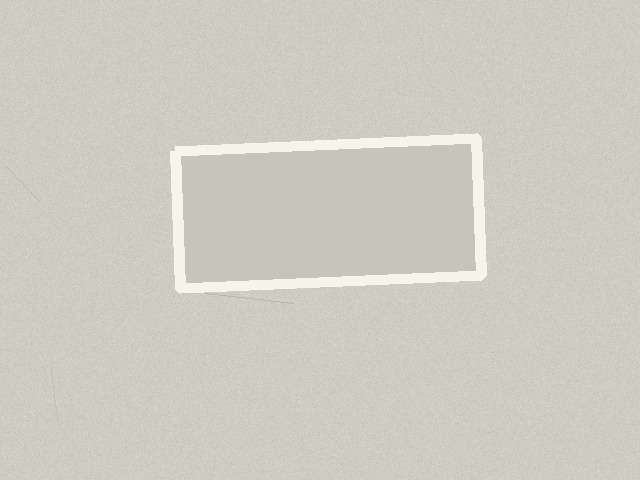parking_area: (175, 138, 481, 288)
